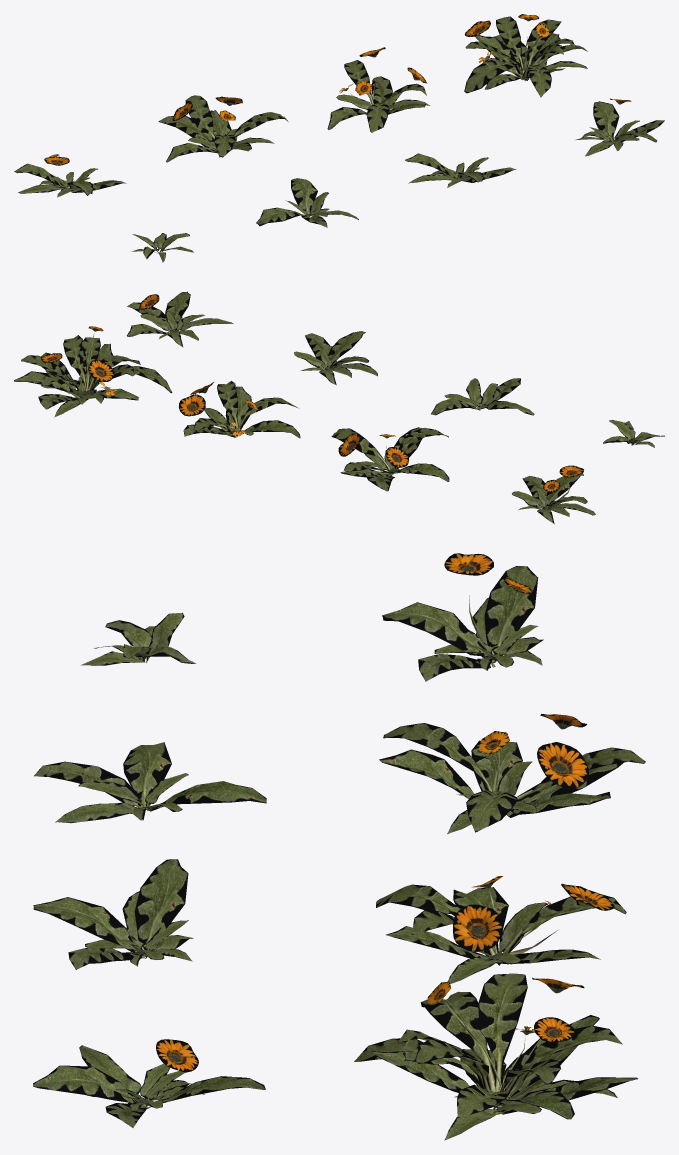
Rendered from fleurs_gazania_lod0.glb.
The picture shows the model from 3 angles, top to bottom: view 1: azimuth 30°, elevation 25°; view 2: azimuth 150°, elevation 25°; view 3: azimuth 270°, elevation 25°; orthographic projection. The views are drawn at different scales.
Parts seen in each view (by area): view 1: flower_gazania_a_LOD0; view 2: flower_gazania_a_LOD0; view 3: flower_gazania_a_LOD0.
Part boxes in pixels (x1,y1,x2,y2): flower_gazania_a_LOD0: (14, 14, 664, 262); flower_gazania_a_LOD0: (14, 291, 664, 524); flower_gazania_a_LOD0: (33, 553, 645, 1140).
Bounding box in the file's own units: 1.48 × 0.1653 × 0.7009.
1 material, 1 textured.
